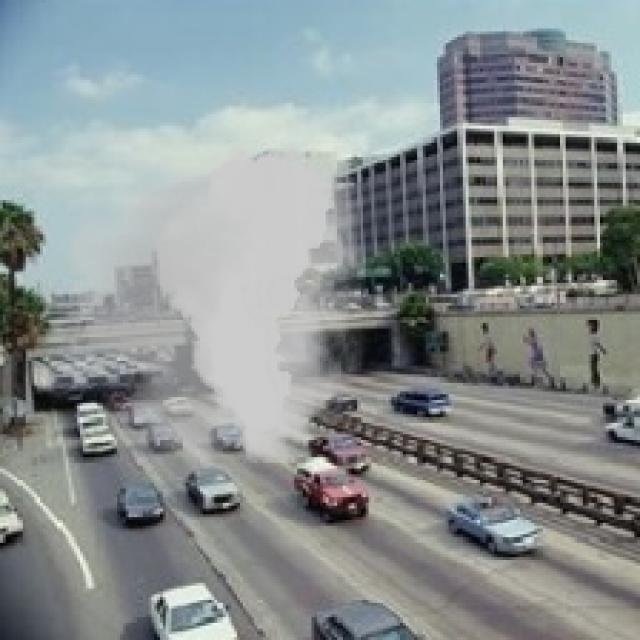Smoke: (22, 131, 394, 486)
